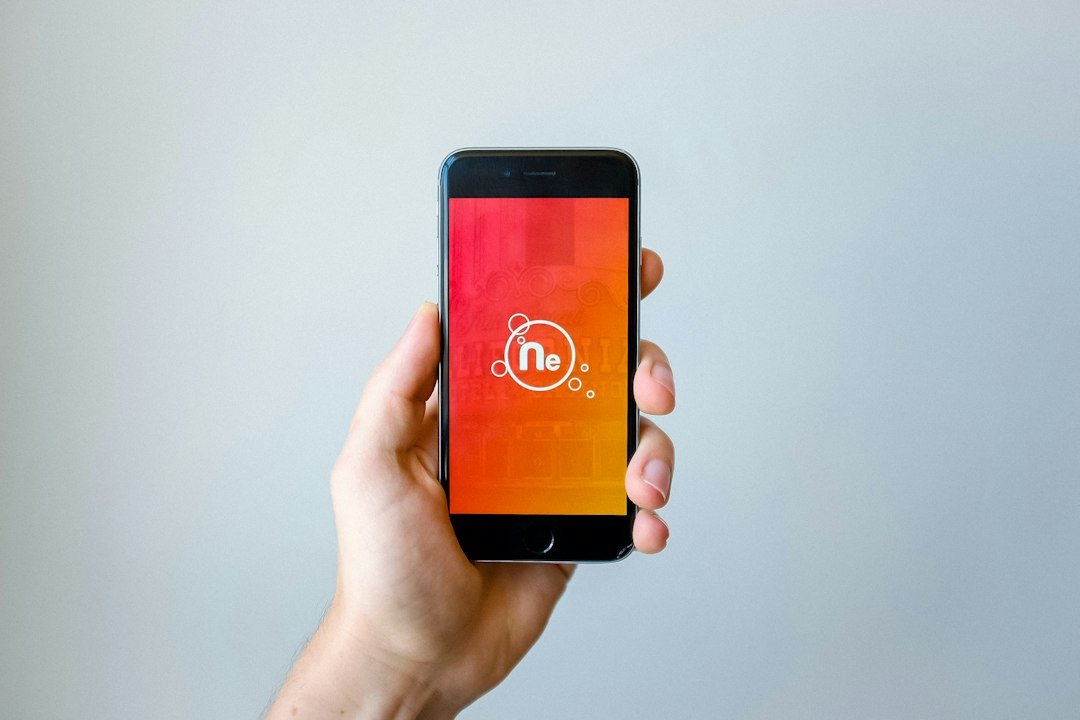phone: (437, 144, 642, 569)
